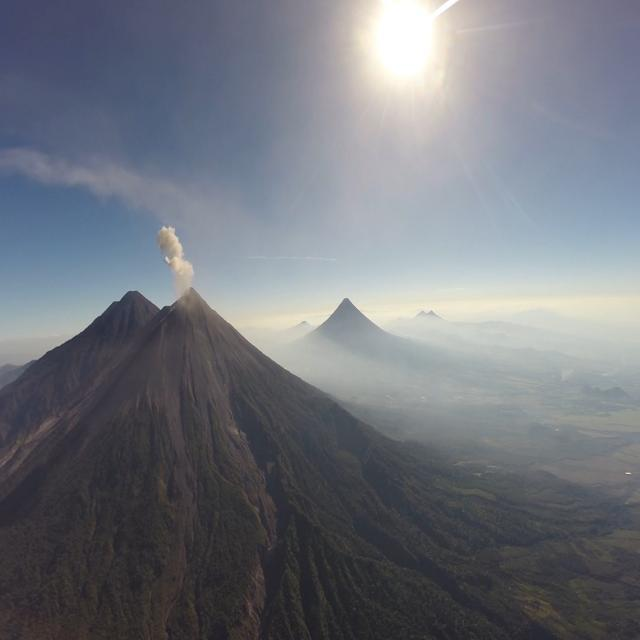Plume: (157, 224, 192, 297)
Summit: (167, 286, 220, 318)
